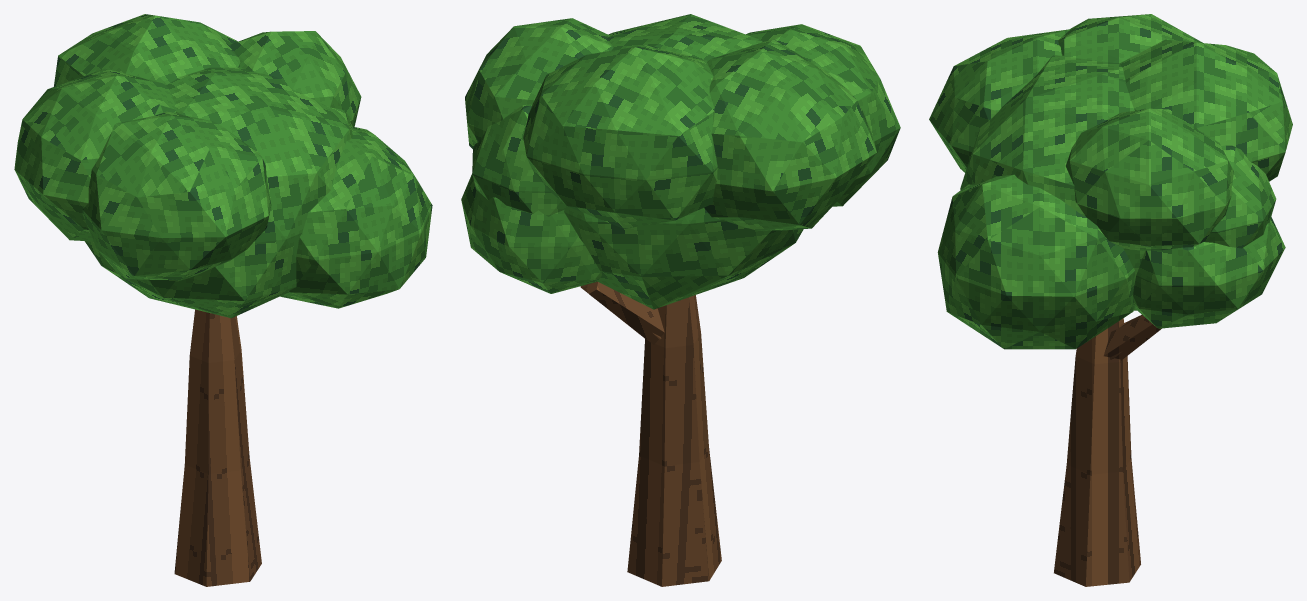
The model's file is oak1.glb.
3 views of the same model, side by side, from view 1: azimuth 30°, elevation 25°; view 2: azimuth 150°, elevation 25°; view 3: azimuth 270°, elevation 25° (orthographic). The views are drawn at different scales.
Visible parts, largest first — view 1: oak1; view 2: oak1; view 3: oak1.
Part boxes in pixels (box(x1,y1,x2,y2)): oak1: box(14, 14, 432, 586); oak1: box(461, 14, 900, 586); oak1: box(929, 14, 1292, 586).
Size of the model in its own units: 4.75 by 6.71 by 4.26.
2 materials, 2 textured.
